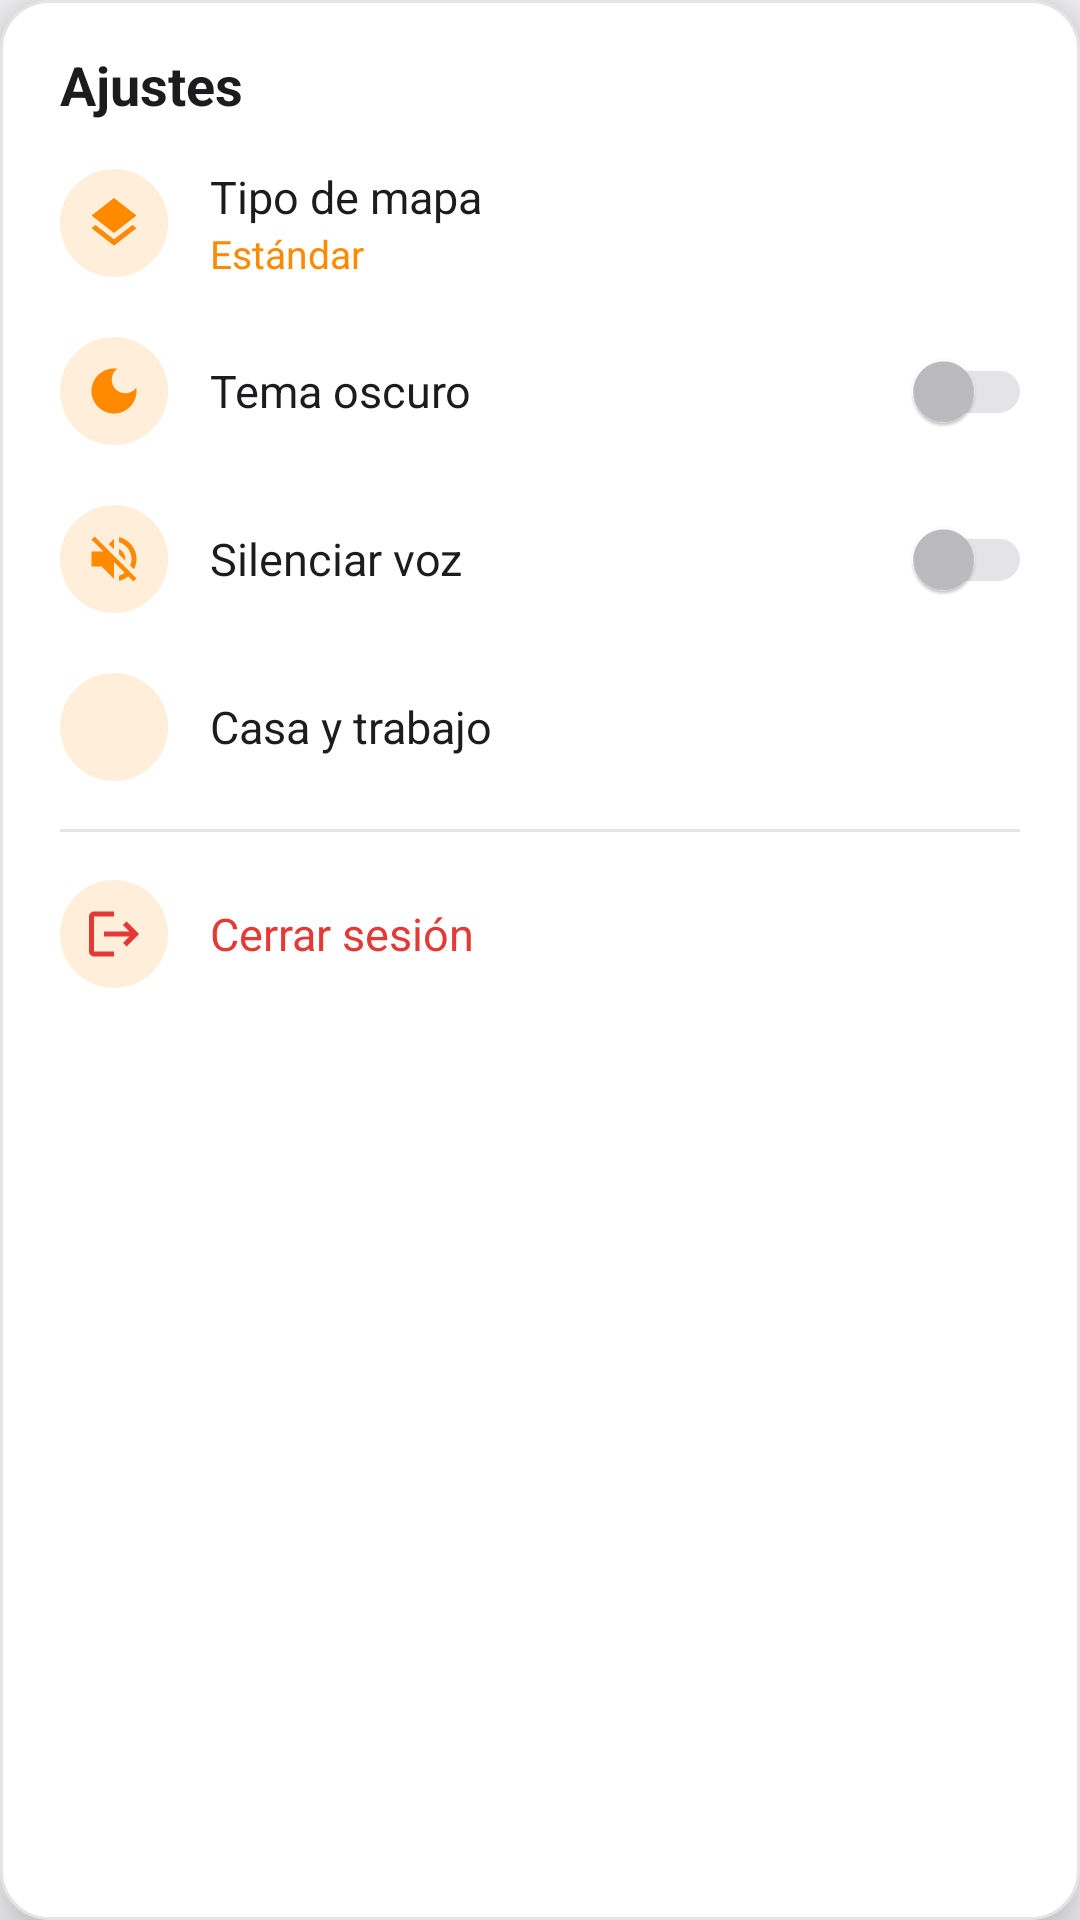

Named icons in this screenshot (1080 x 1920) and their bounding boxes, (x1, y1, x2, y2):
map hybrid: (60, 169, 168, 277)
mode: (60, 337, 168, 445)
volume off: (60, 505, 168, 613)
